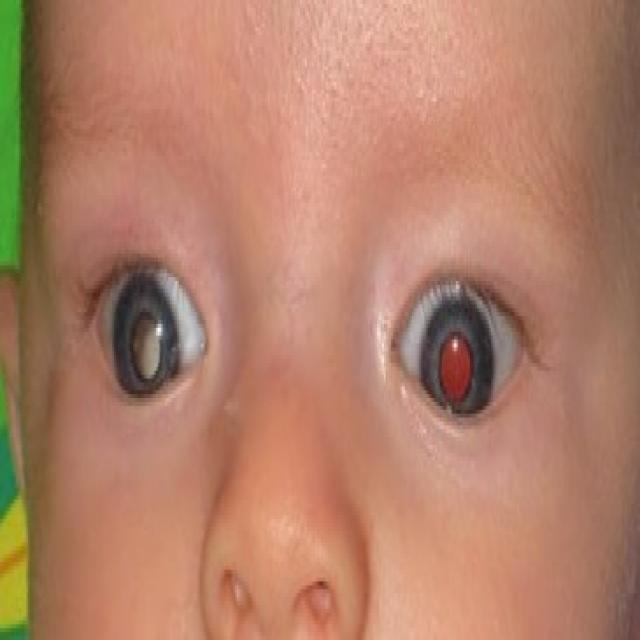reflexo-alterado: (79, 237, 222, 430)
reflexo-normal: (388, 214, 537, 472)
